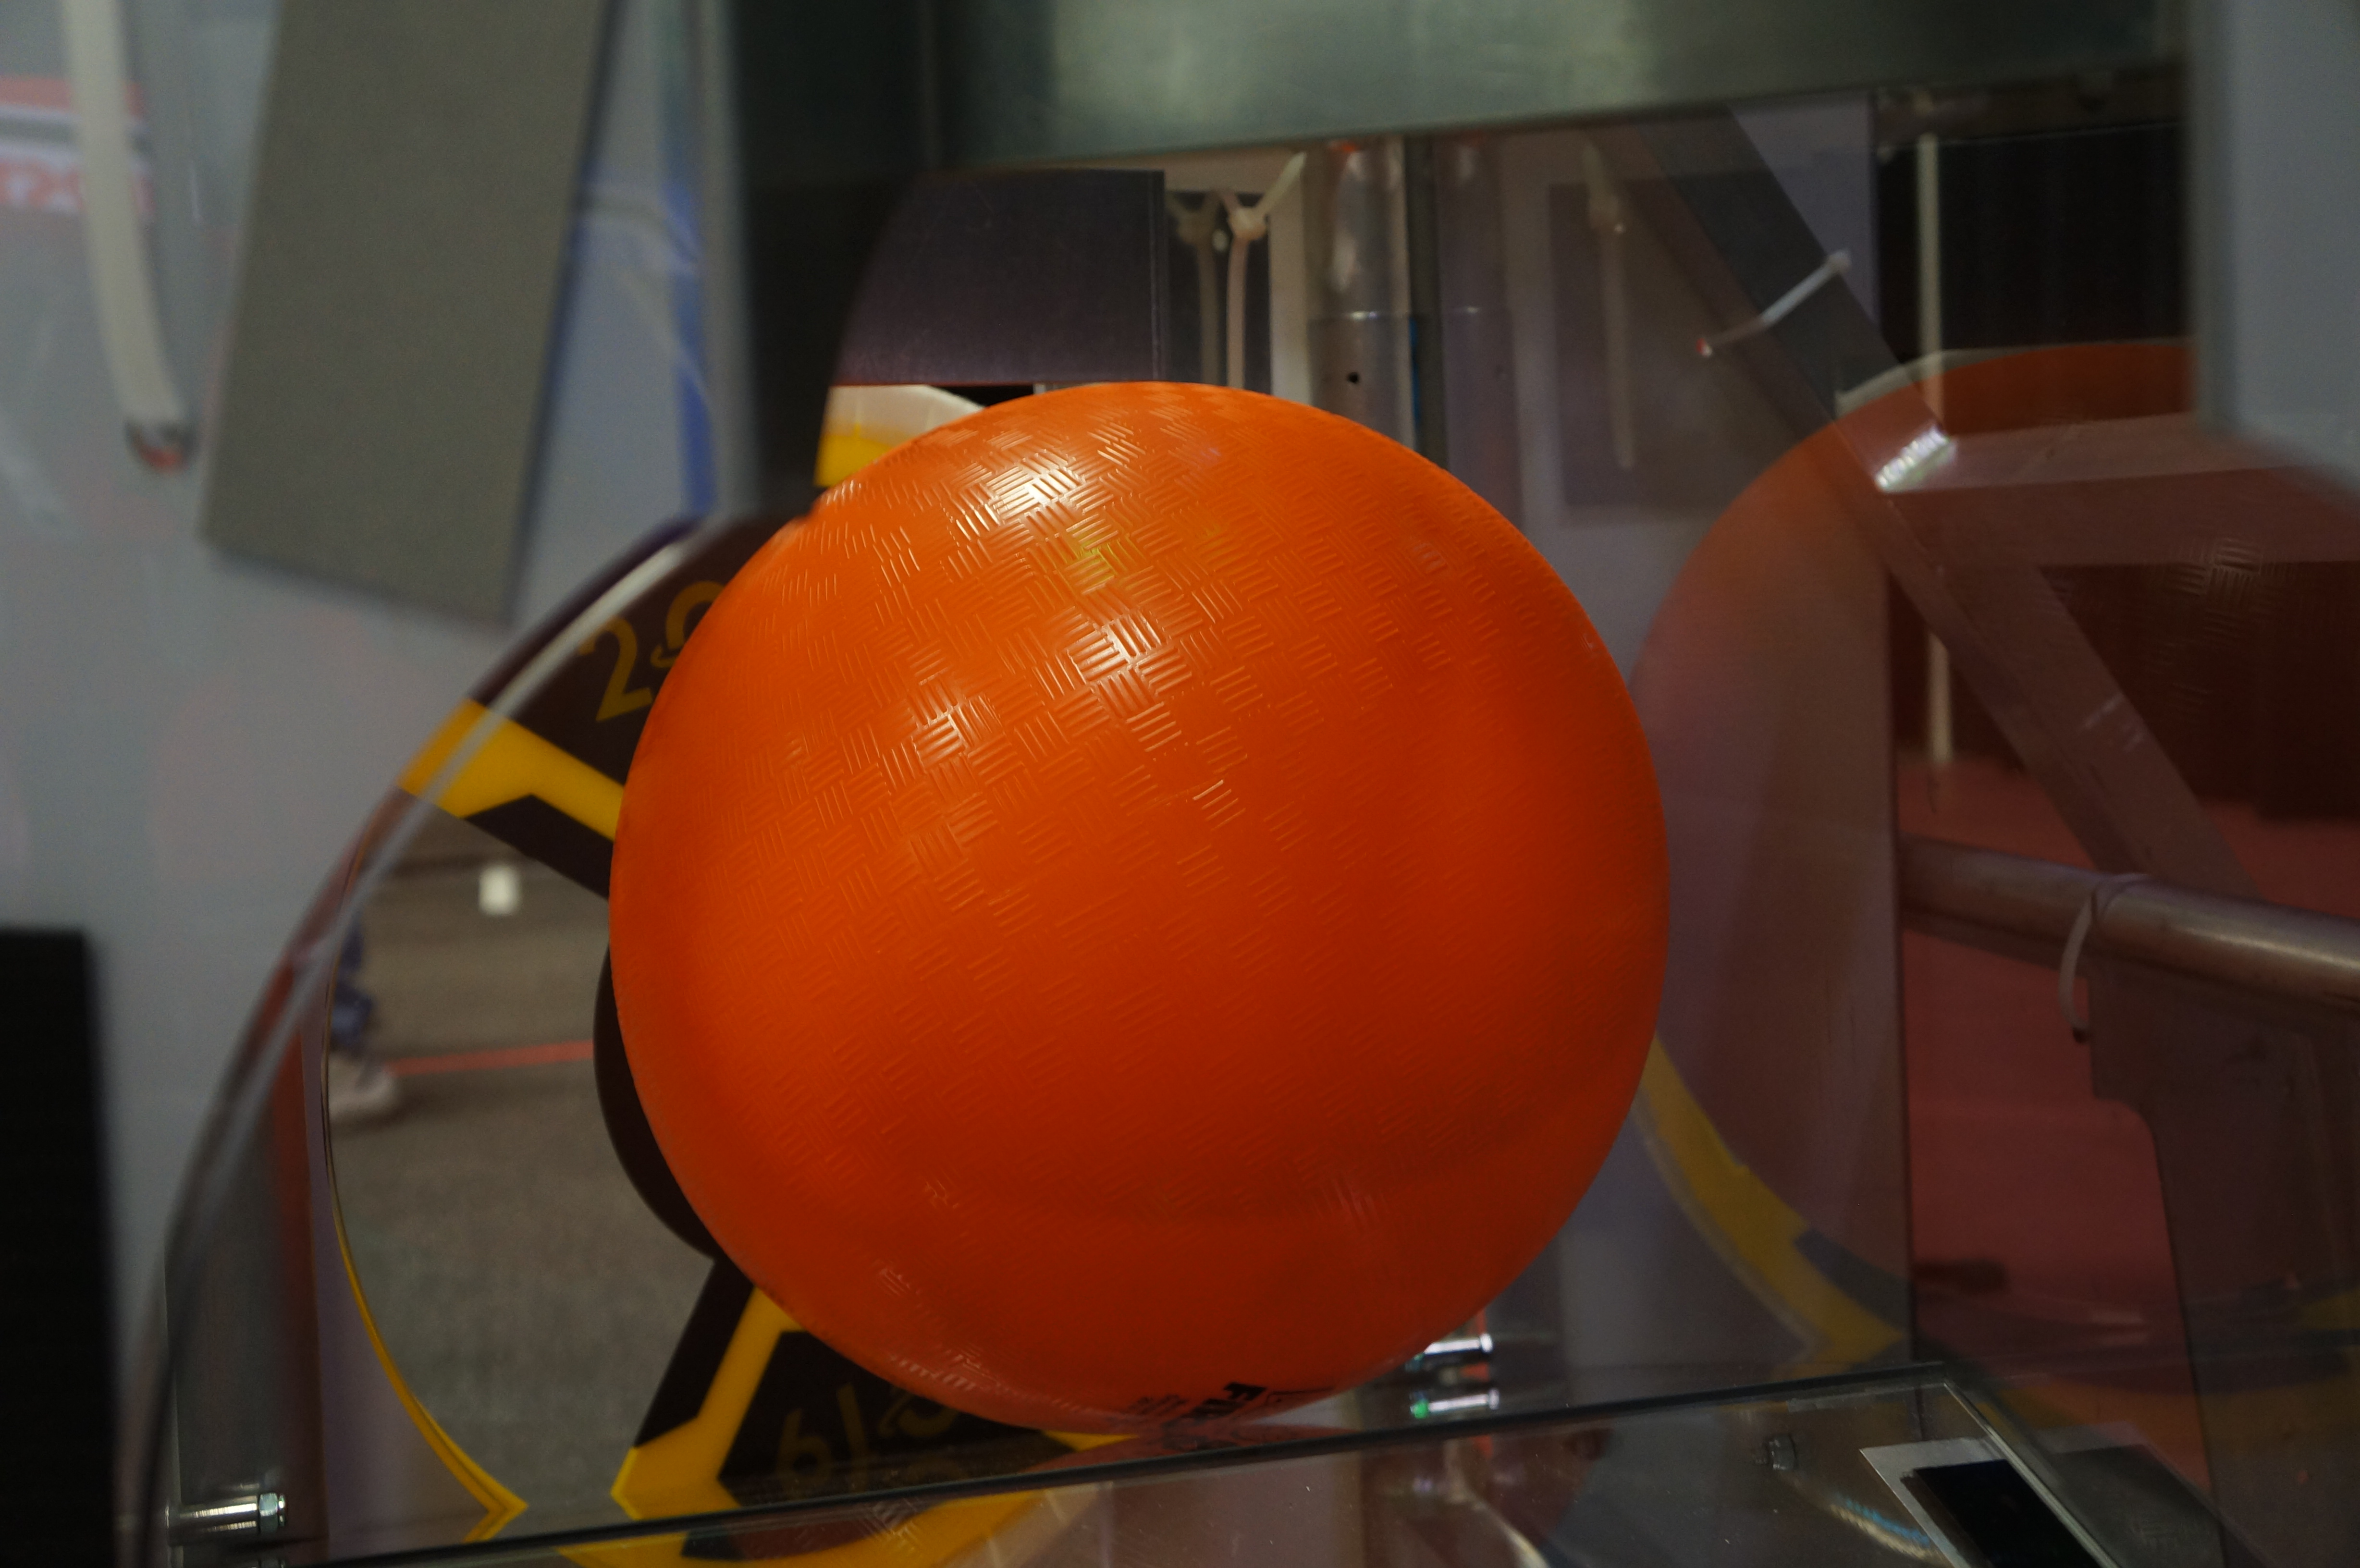Ball: (607, 381, 1676, 1442)
Hatch: (320, 380, 1163, 1561)
Tape: (196, 0, 628, 639)
